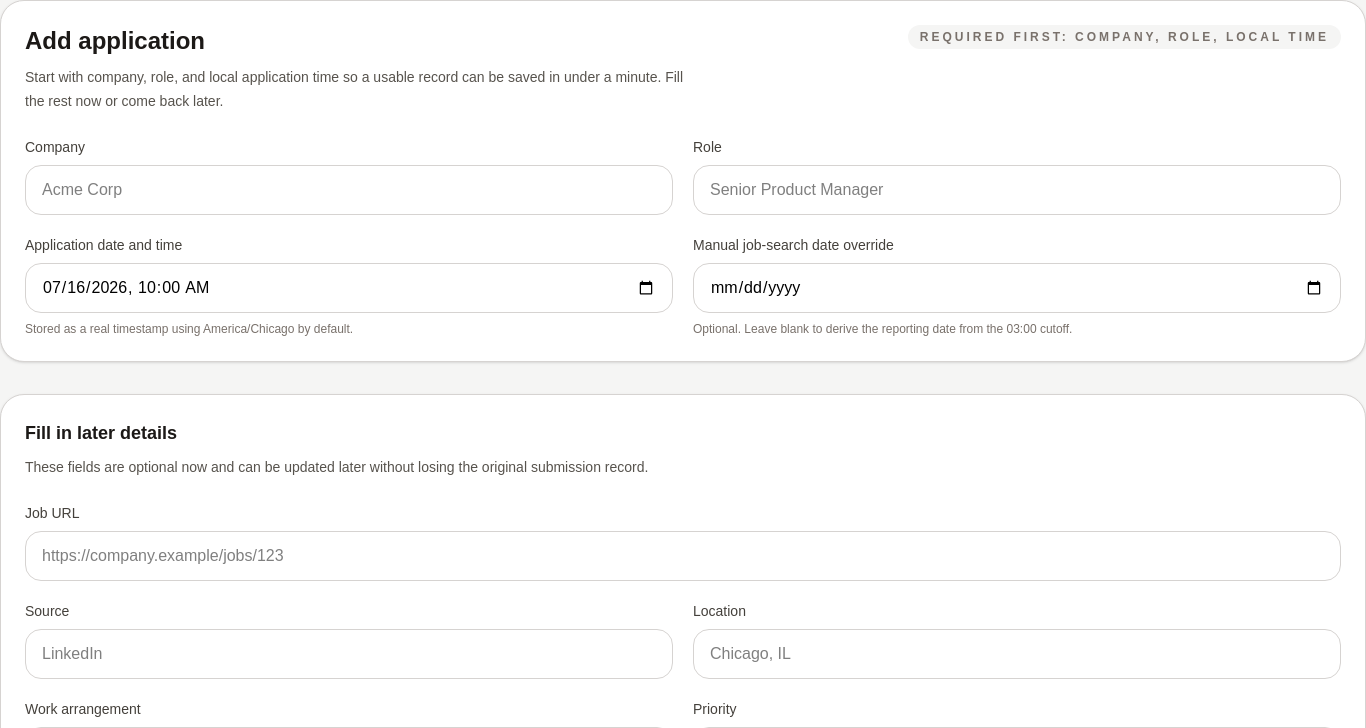
ApplicationForm › shows a duplicate warning when the company name matches an existing normalized company
Type "Acme Inc" into the field labelled "Company". click: (349, 190)
box: left=25, top=165, right=673, bottom=215
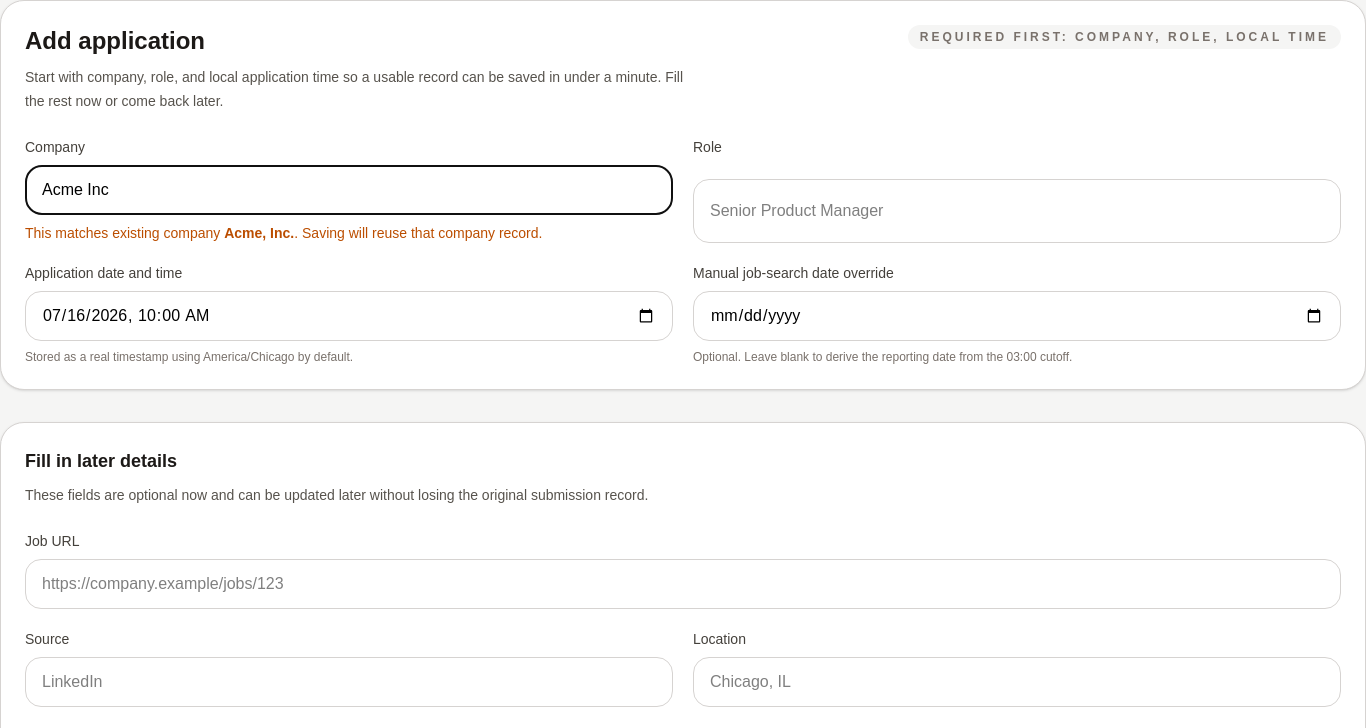
Now the text "Saving will reuse that company record" is shown, box left=294, top=225, right=542, bottom=241
